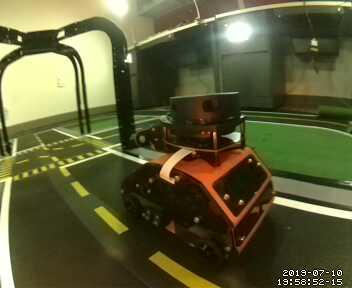pheeno: (120, 90, 276, 268)
